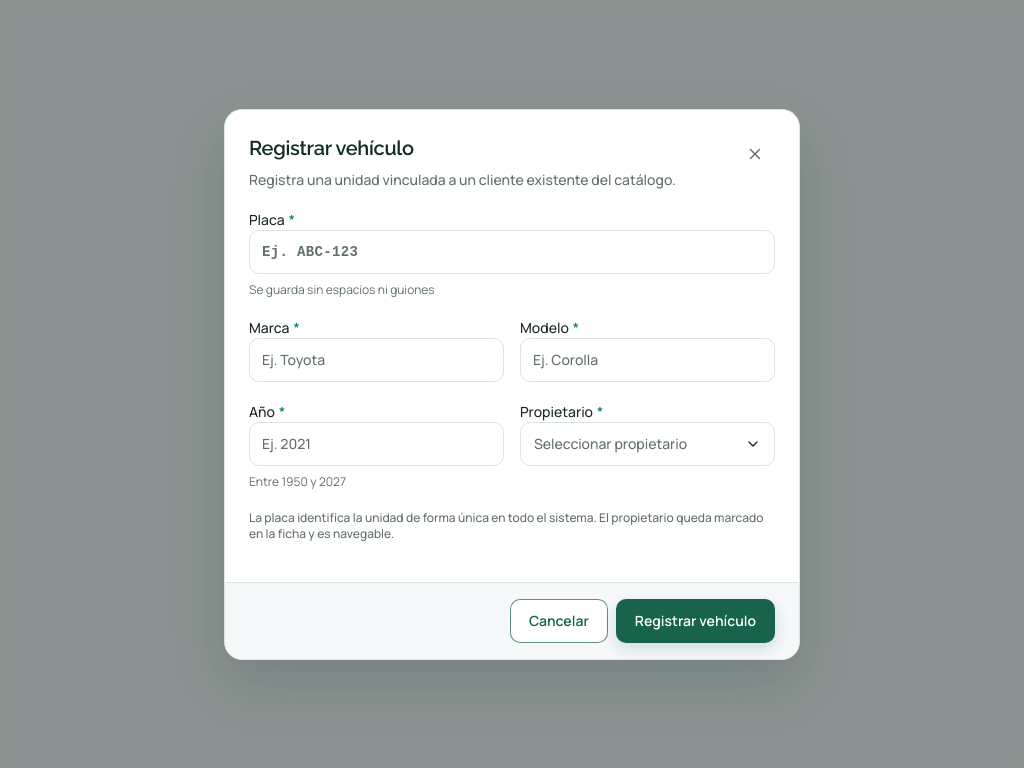
Test: Formulario de vehículos › rechaza un año fuera del rango documentado
This screenshot has width=1024, height=768.
Type "ABC123" into the field labelled "Placa* Se guarda sin espacios ni guiones" at (512, 252), box [250,230,774,272]
Type "Toyota" into the field labelled "Marca*" at (376, 360), box [250,338,503,380]
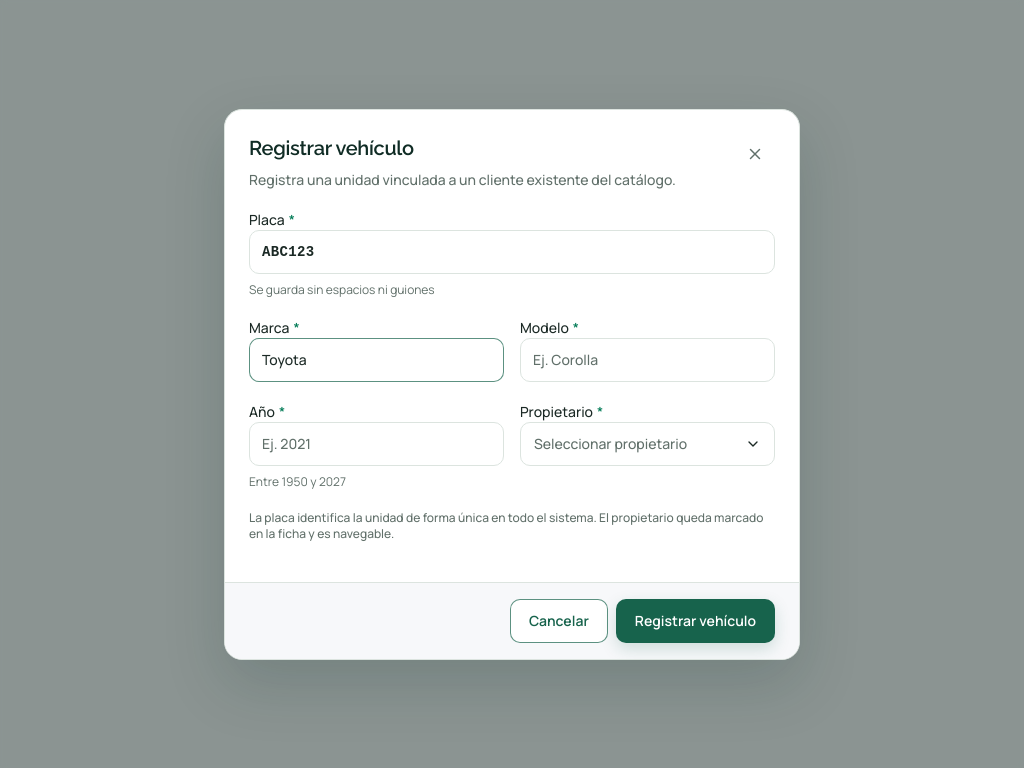
Type "Corolla" into the field labelled "Modelo*" at (648, 360), box [521,338,774,380]
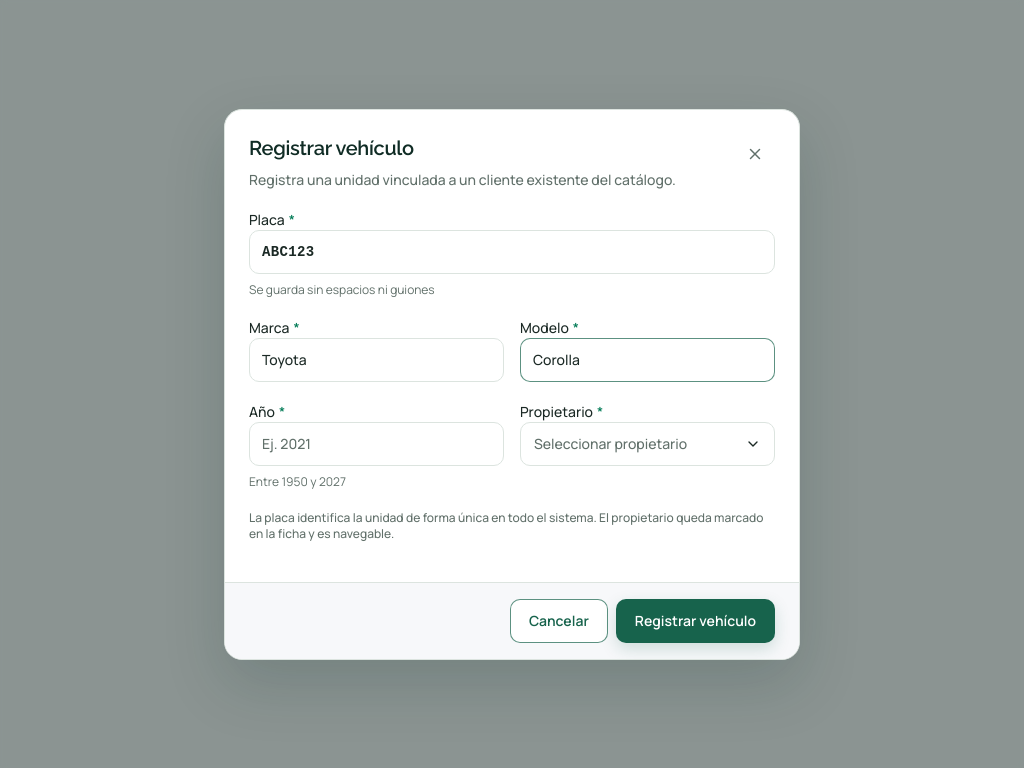
Type "1800" into the field labelled "Año* Entre 1950 y 2027" at (376, 444), box [250,422,503,464]
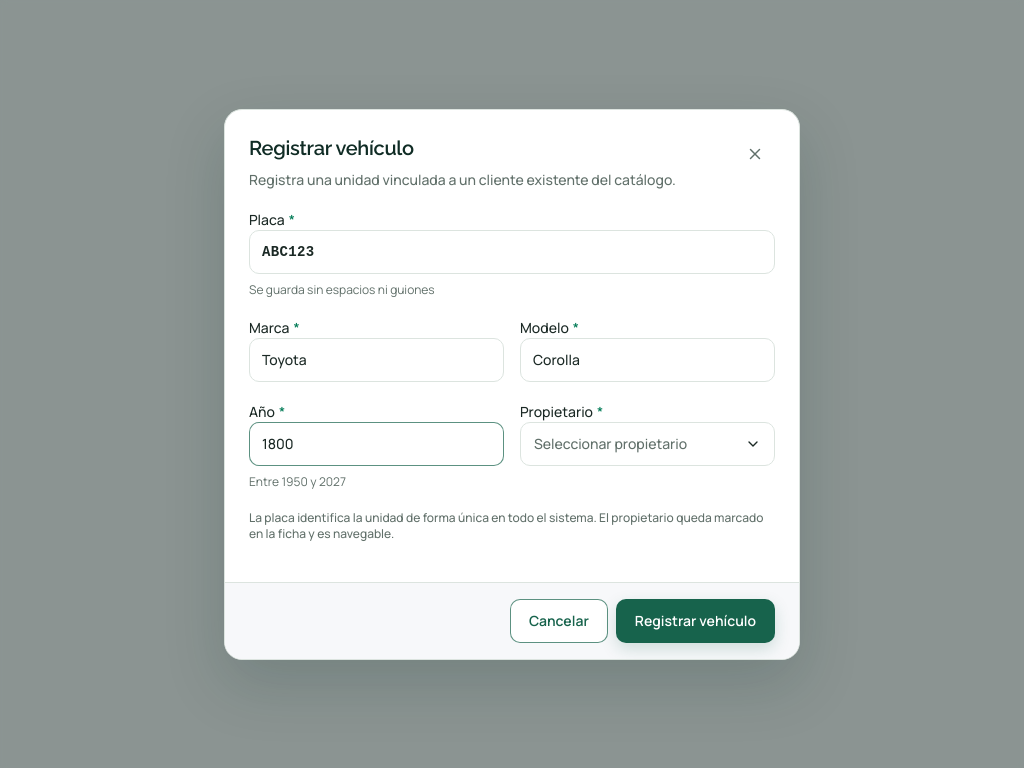
Click the button with aria-label "Propietario del vehículo" at (648, 444), box [520,422,775,466]
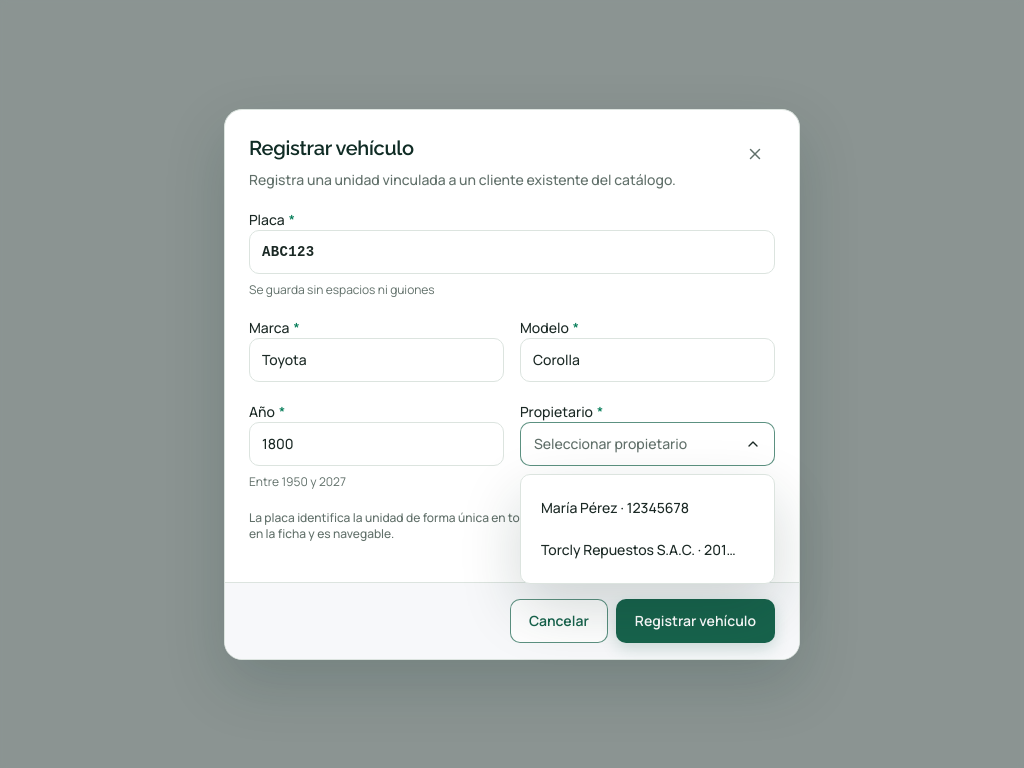
Click the option "María Pérez · 12345678" at (648, 508), box [529,486,766,528]
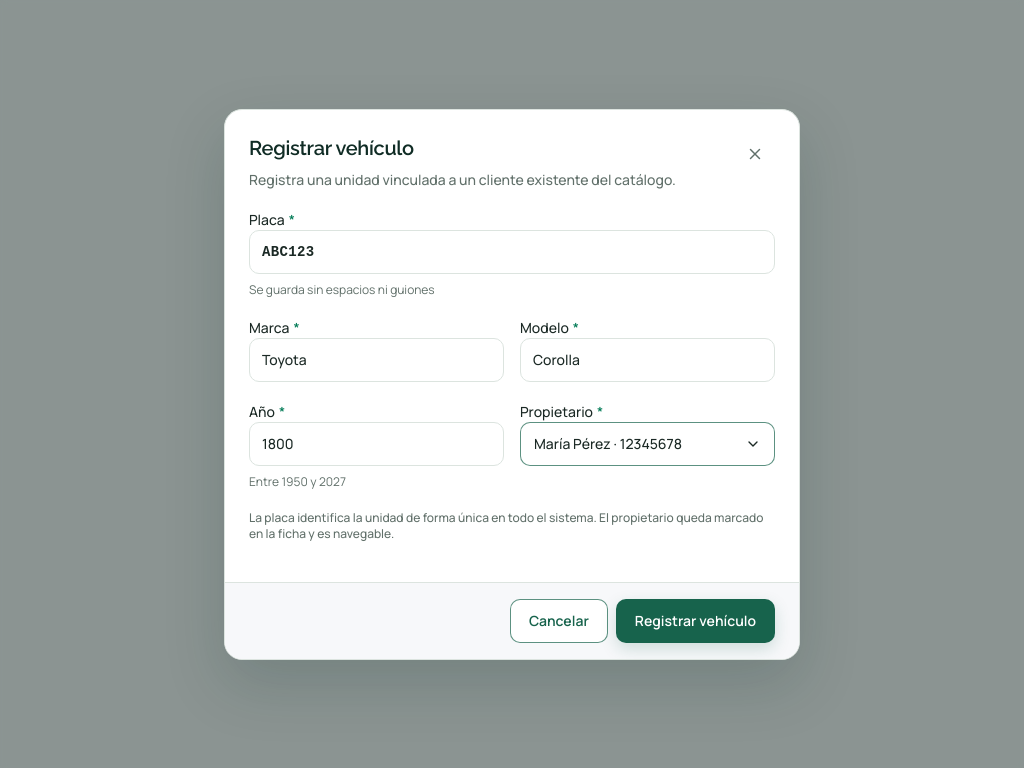
Click the button "Registrar vehículo" at (695, 620), box [616,598,775,642]
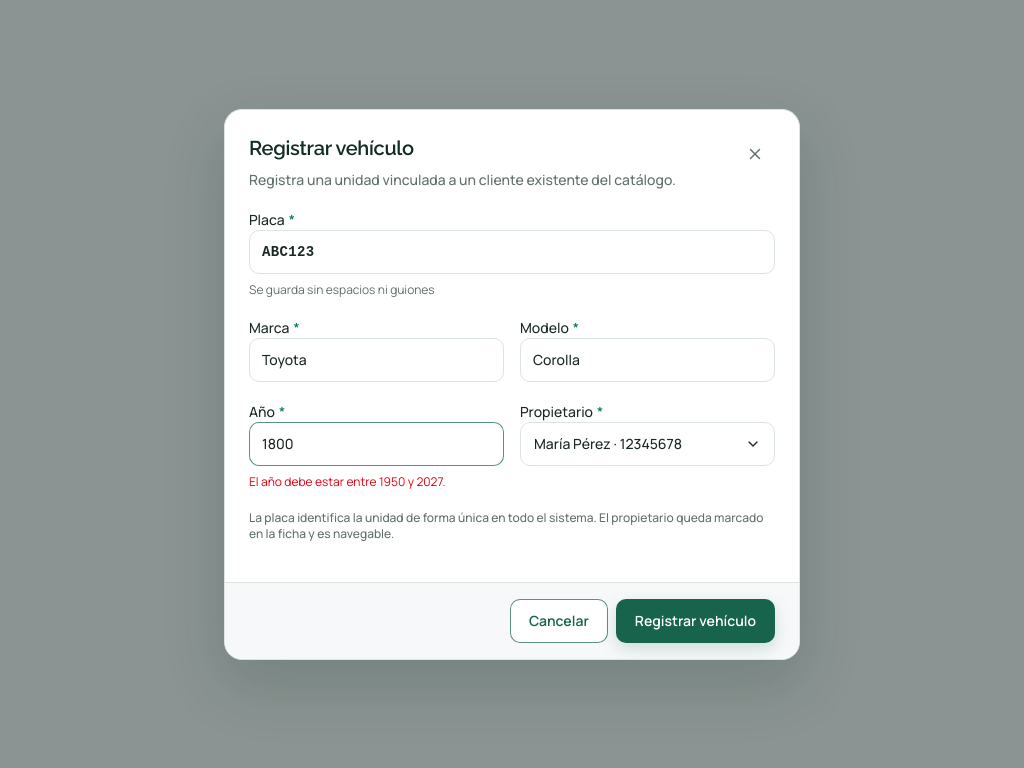
Check: the text "El año debe estar entre 1950 y 2027." is shown, box [249,472,446,490]
